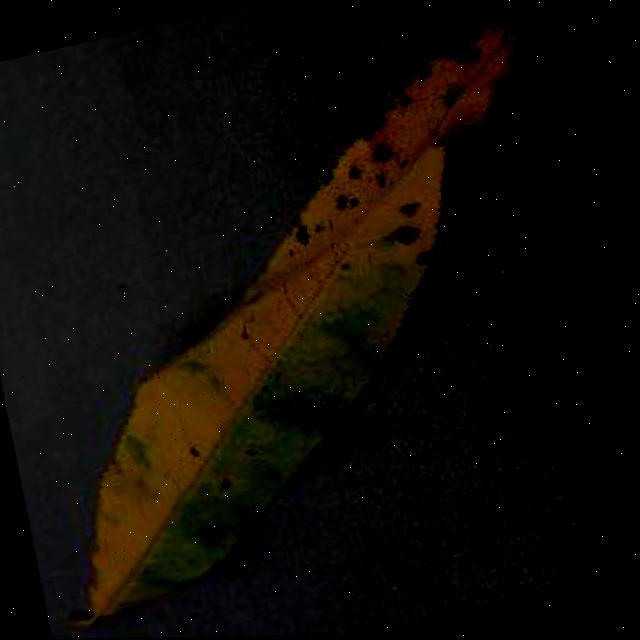Bacterial_spot: (276, 196, 364, 268), (336, 124, 408, 195), (385, 189, 441, 263), (427, 65, 477, 126), (371, 85, 423, 130)
